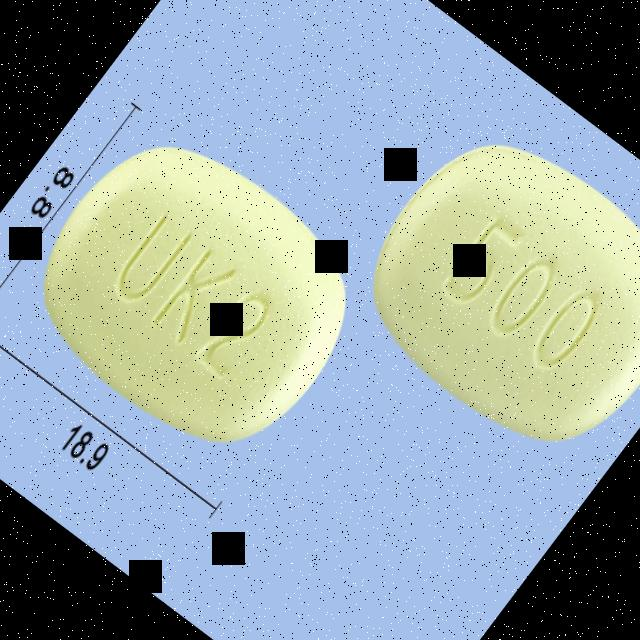Clazin: (0, 101, 392, 486), (331, 103, 640, 481)
